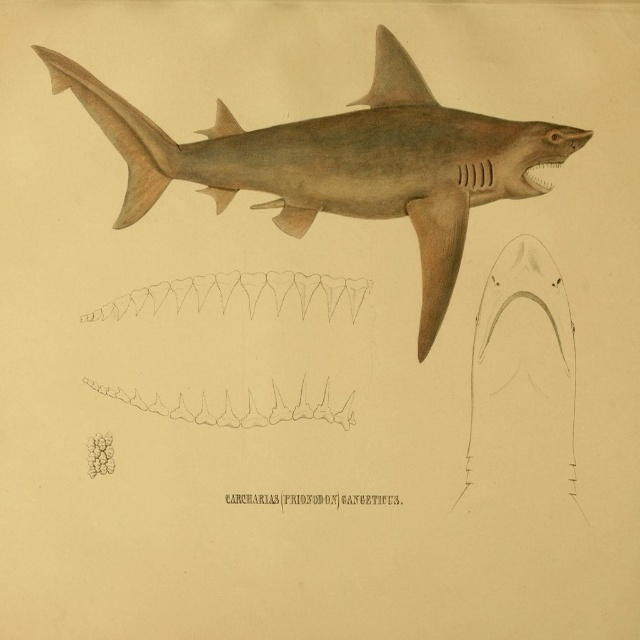Shark: (32, 18, 592, 364)
